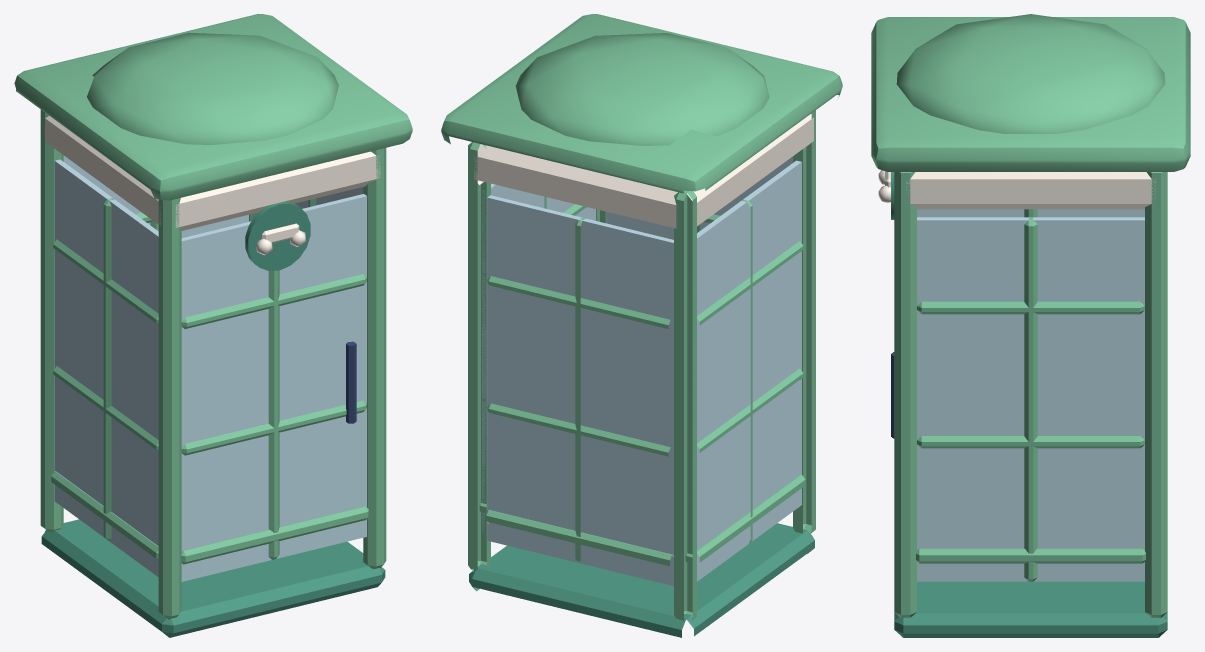
File: ac_phonebooth.glb
3 renders of one model, left to right at view 1: azimuth 30°, elevation 25°; view 2: azimuth 150°, elevation 25°; view 3: azimuth 270°, elevation 25°, orthographic. The views are drawn at different scales.
Visible parts, largest first — view 1: body; view 2: body; view 3: body.
Part boxes in pixels (box(x1,y1,x2,y2)): body: box(14, 14, 412, 637); body: box(441, 14, 842, 637); body: box(871, 14, 1190, 637).
Bounding box in the file's own units: 1.4 × 2.6 × 1.4.
